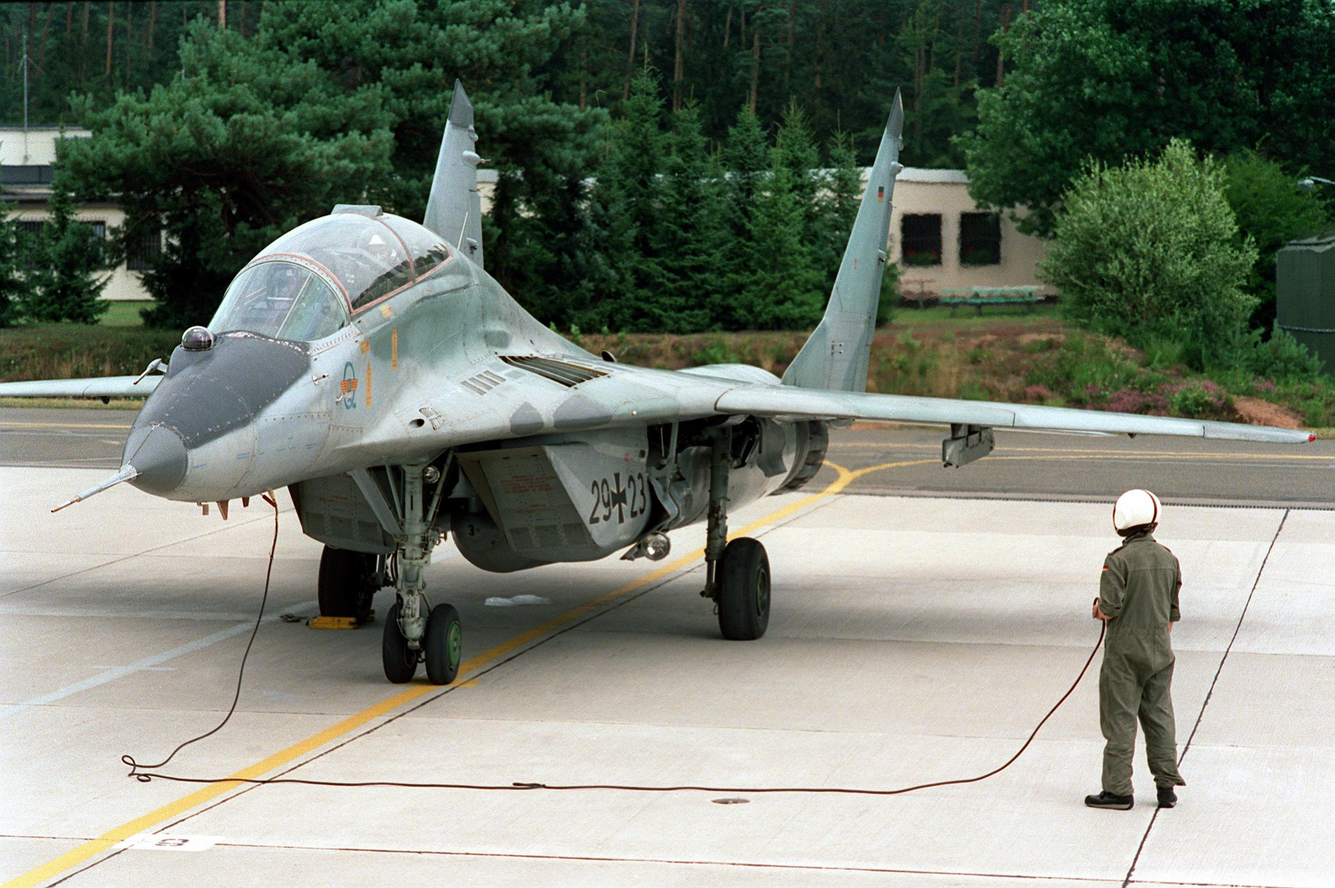aircraft: (94, 66, 1328, 689)
